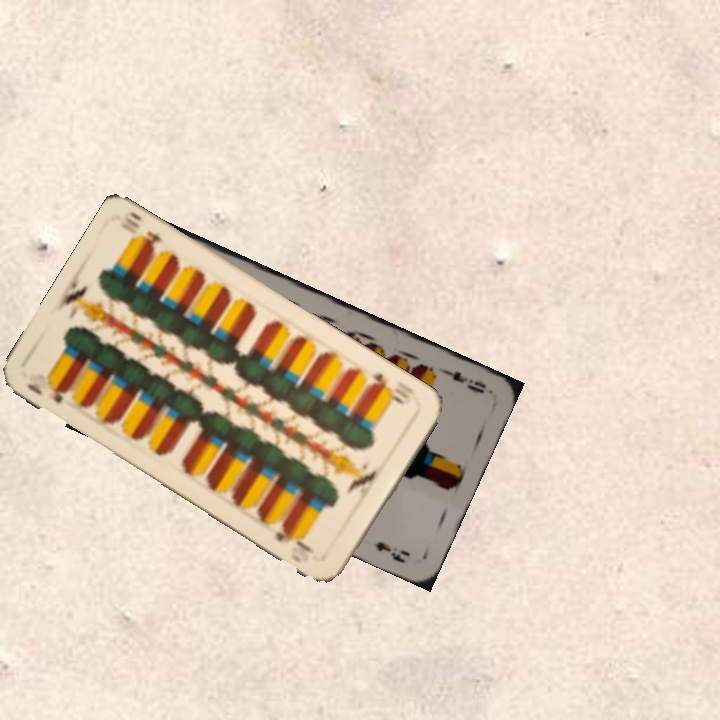E10: (364, 369, 413, 408), (22, 374, 70, 406)
E9: (436, 364, 489, 396)
